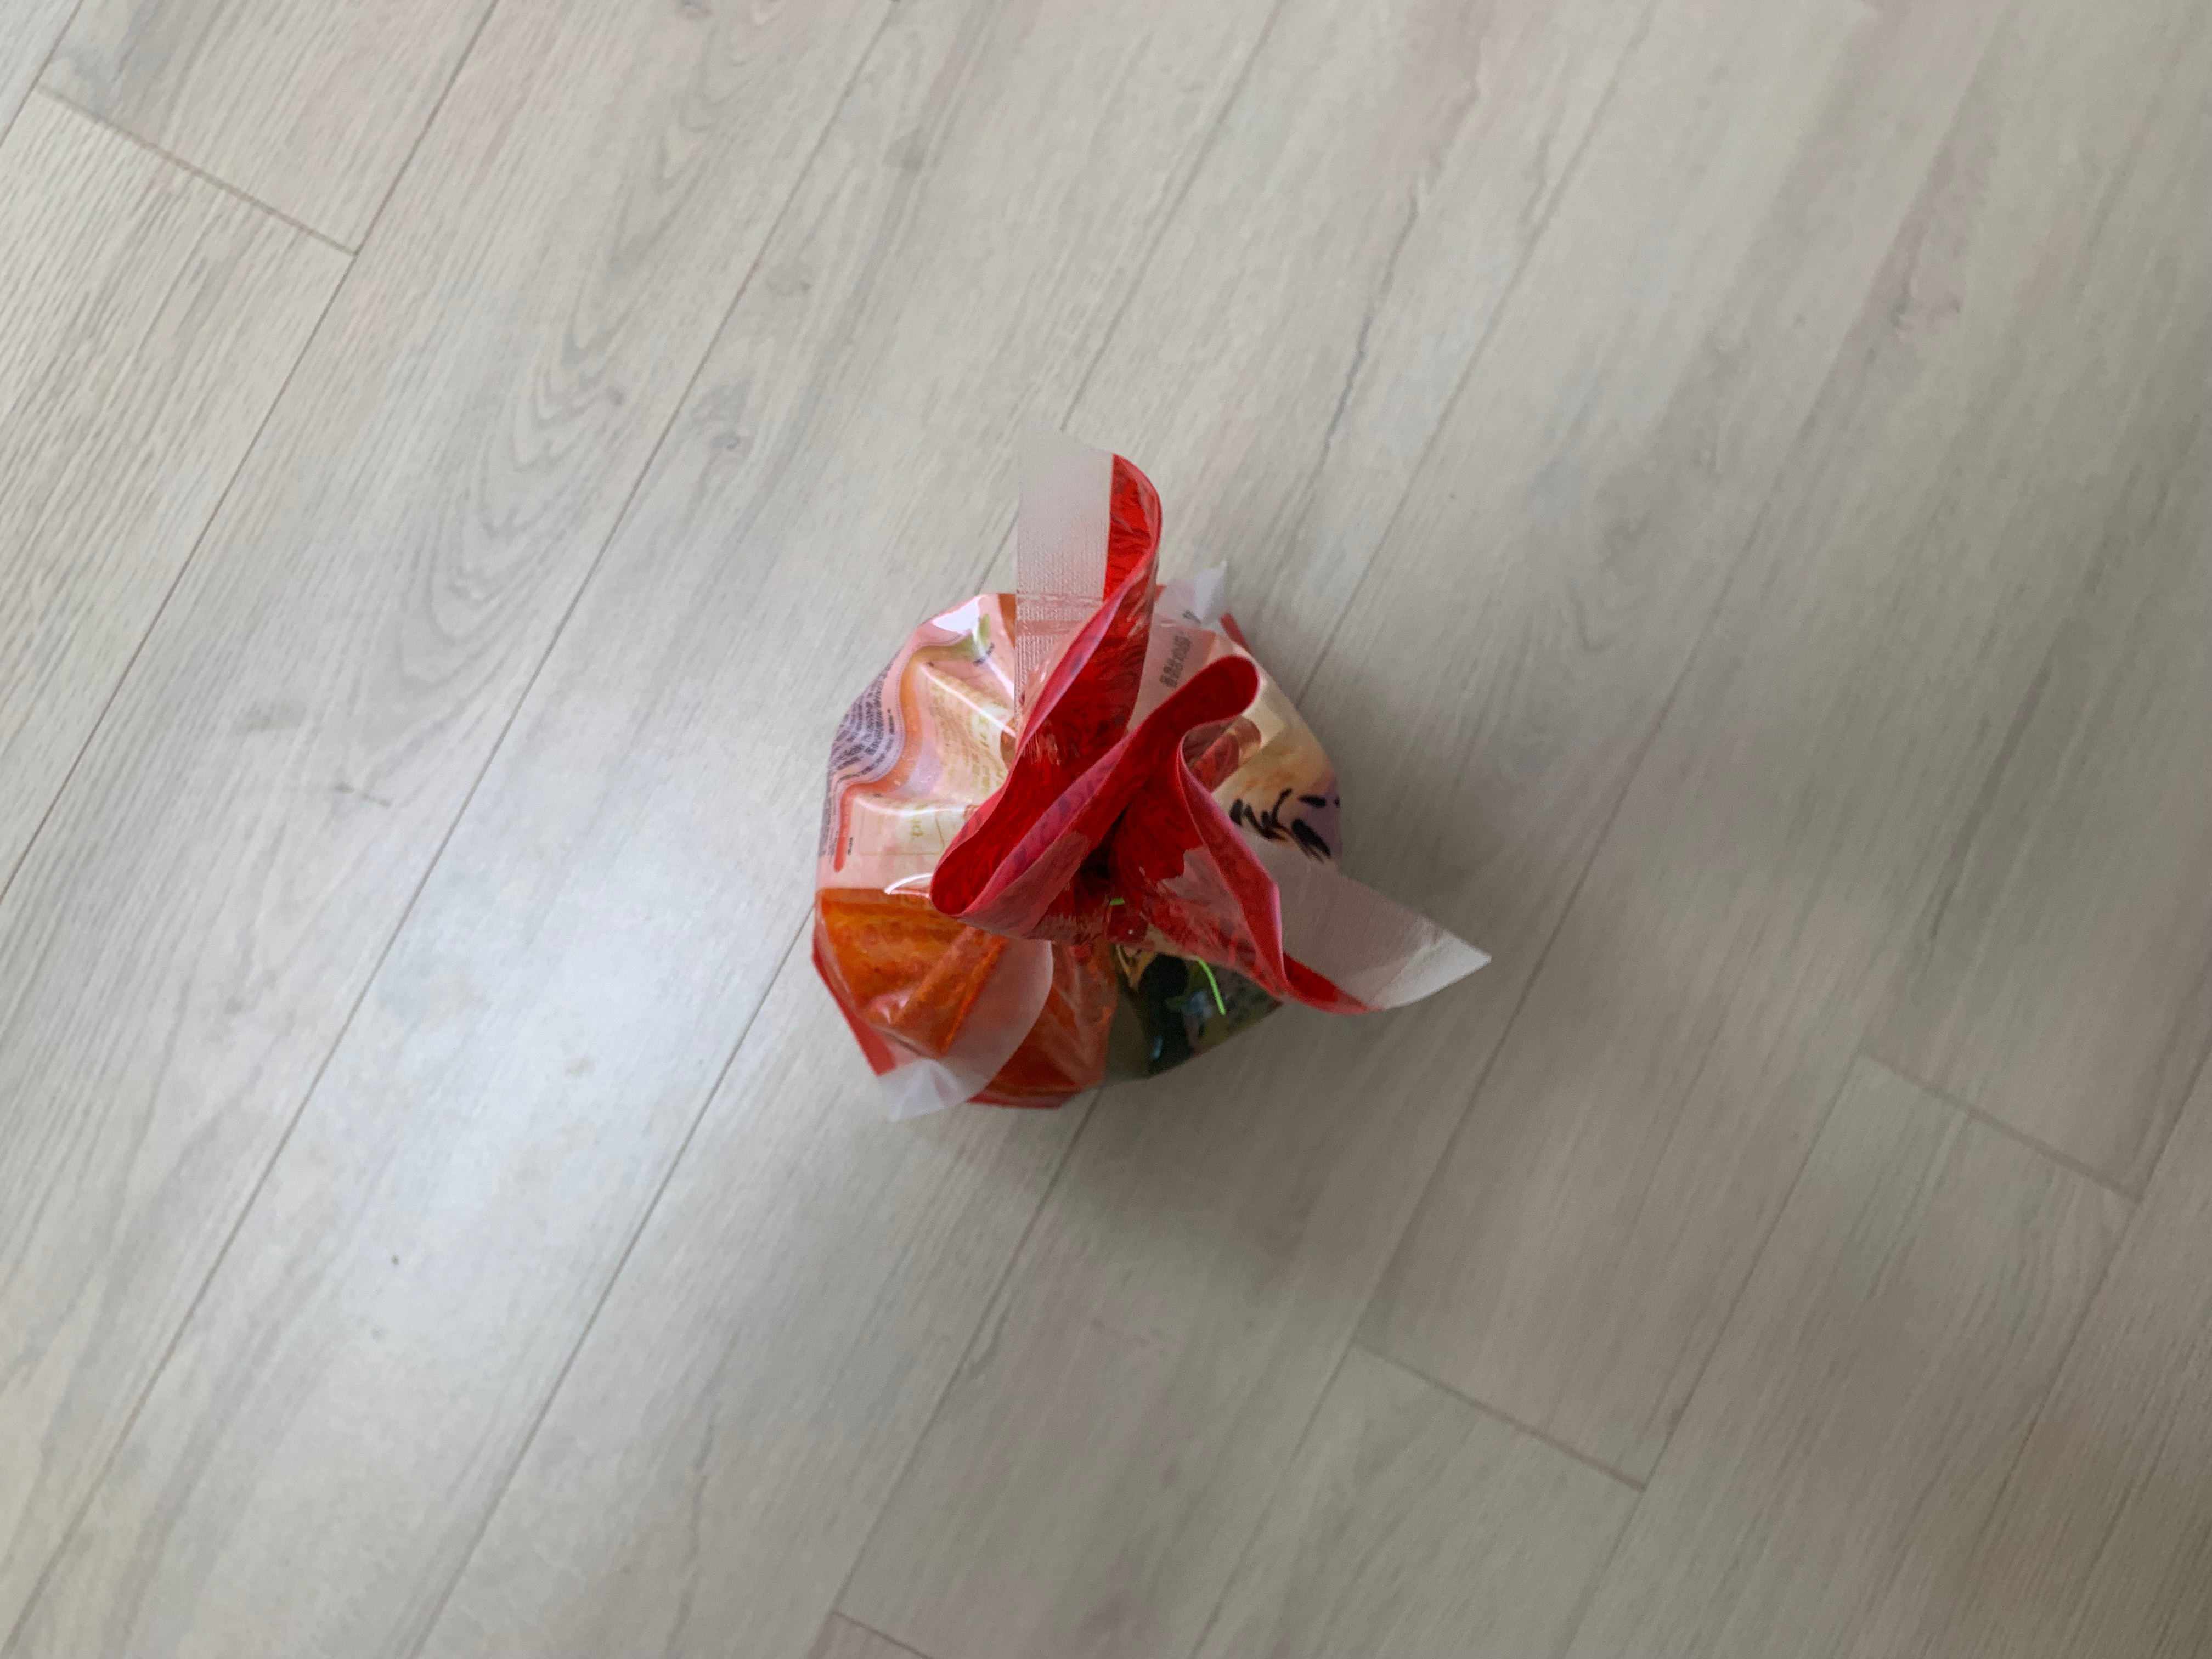kimchi: (813, 458, 1383, 1110)
